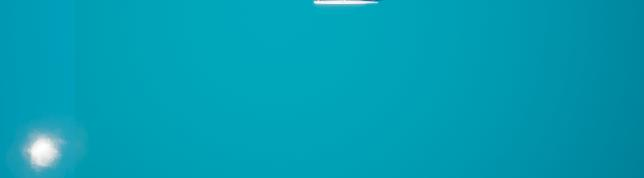land_base: (4, 120, 77, 178)
